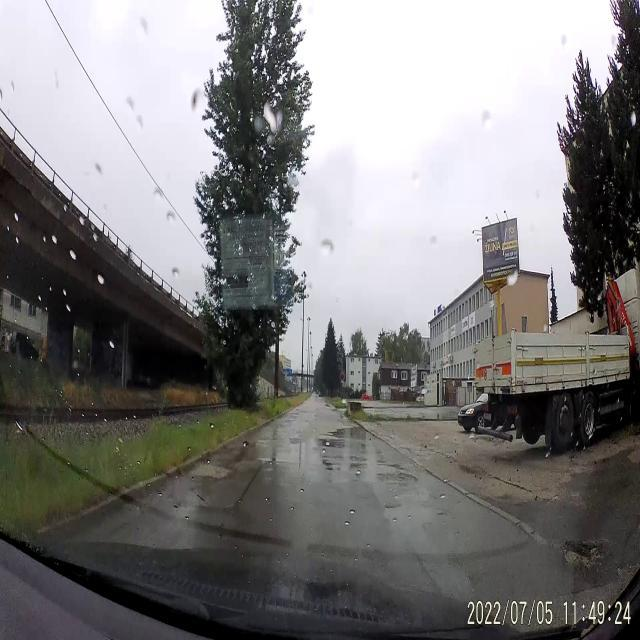Pothole: (378, 466, 422, 492), (186, 463, 233, 485), (382, 502, 404, 518)
